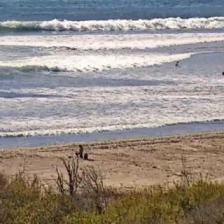surfer: (174, 61, 181, 68), (222, 70, 223, 77)
